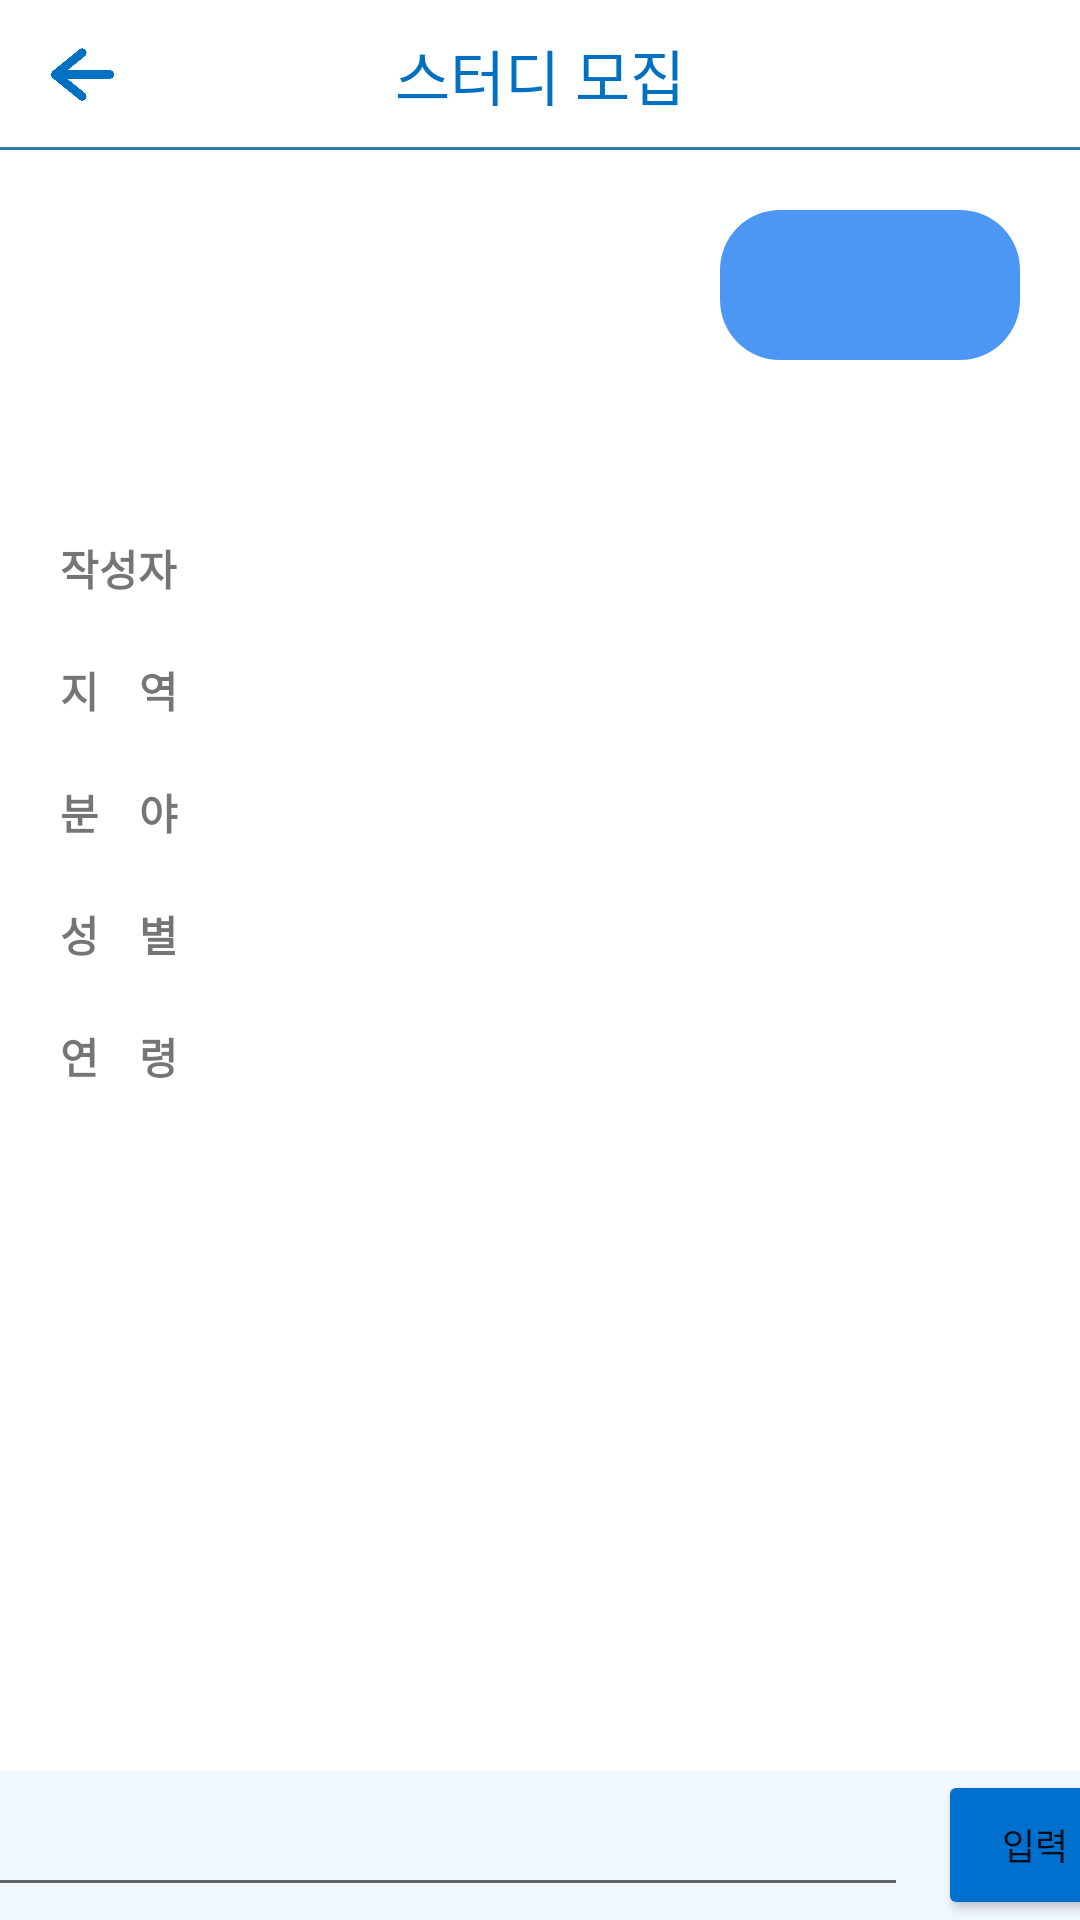

Locate icon controls on the screen. Image size 1080px×1920px, boxes as (x1, y1, x2, y2).
back: (51, 48, 114, 101)
